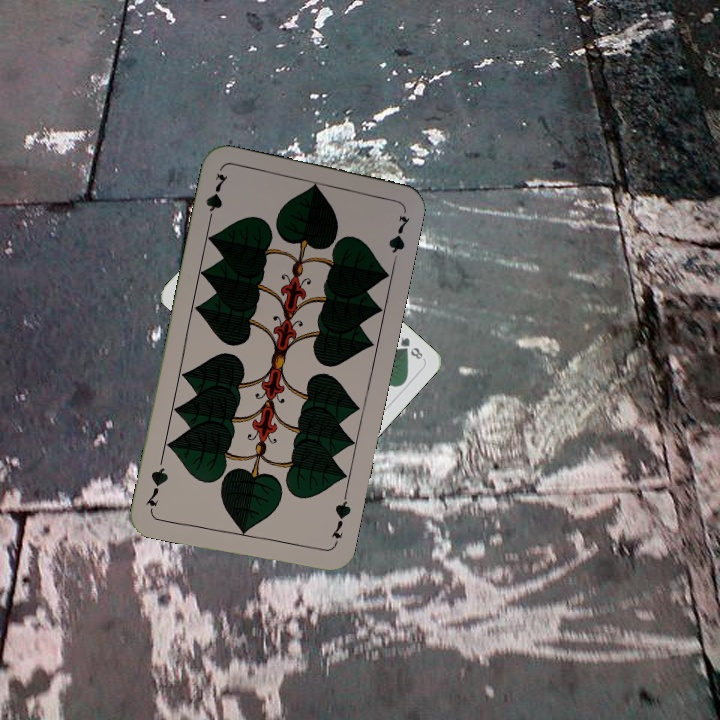G7: (201, 169, 231, 227), (327, 491, 354, 549)
G8: (396, 333, 425, 362)
